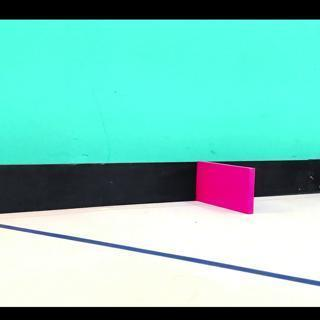xparking: (200, 170, 252, 213)
